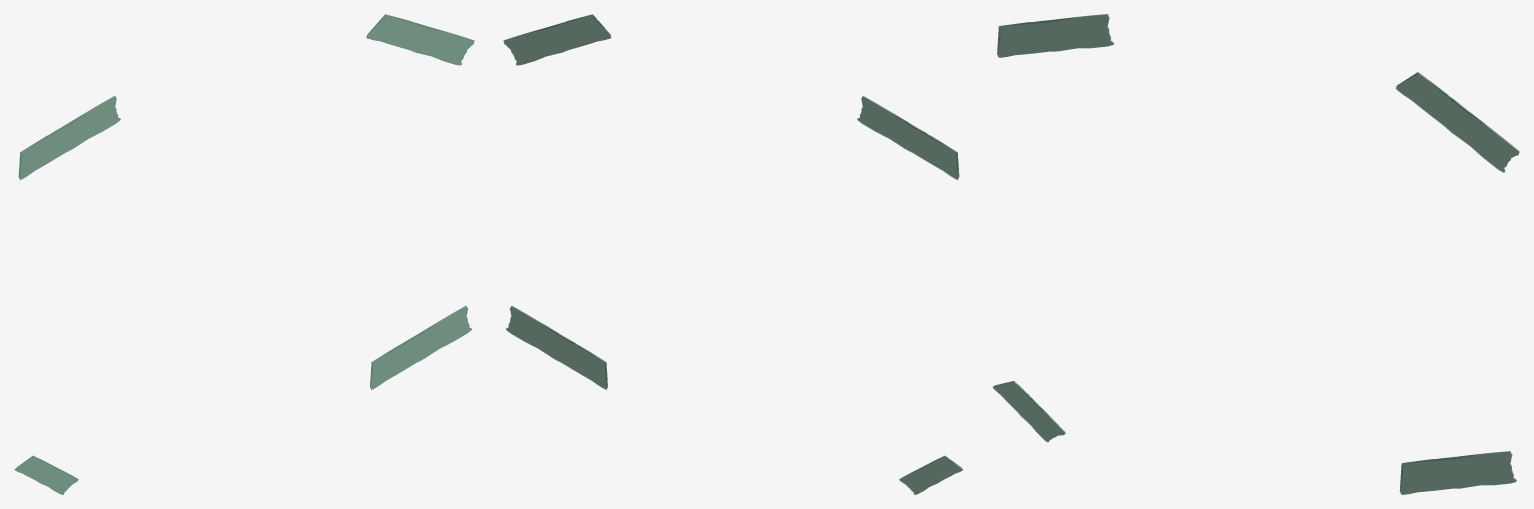
Rendered from green tape.fbx.
3 views of the same model, side by side, from view 1: azimuth 30°, elevation 25°; view 2: azimuth 150°, elevation 25°; view 3: azimuth 330°, elevation 25° (orthographic). The views are drawn at different scales.
Visible parts, largest first — view 1: polySurface102; view 2: polySurface102; view 3: polySurface102.
Part boxes in pixels (box(x1,y1,x2,y2)): polySurface102: box(14, 14, 474, 494); polySurface102: box(503, 14, 963, 494); polySurface102: box(992, 14, 1519, 494).
Bounding box in the file's own units: 19.06 × 15.91 × 0.0488.
